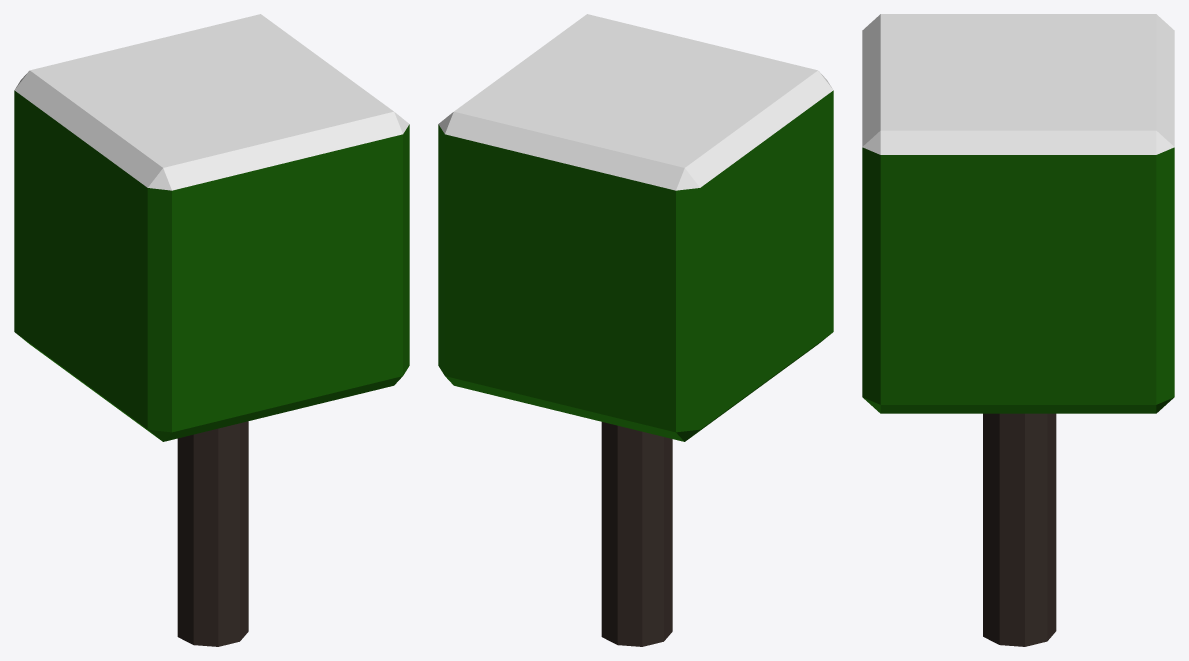
File: Simple_Tree_1_Winter.fbx
3 renders of one model, left to right at view 1: azimuth 30°, elevation 25°; view 2: azimuth 150°, elevation 25°; view 3: azimuth 270°, elevation 25°, orthographic. The views are drawn at different scales.
Parts seen in each view (by area): view 1: Simple_Tree_1_Winter; view 2: Simple_Tree_1_Winter; view 3: Simple_Tree_1_Winter.
Boxes of the visible parts, bbox=[...] form: Simple_Tree_1_Winter: bbox=[14, 14, 409, 646]; Simple_Tree_1_Winter: bbox=[438, 14, 833, 646]; Simple_Tree_1_Winter: bbox=[862, 14, 1174, 646].
Size of the model in its own units: 242 by 478 by 242.
